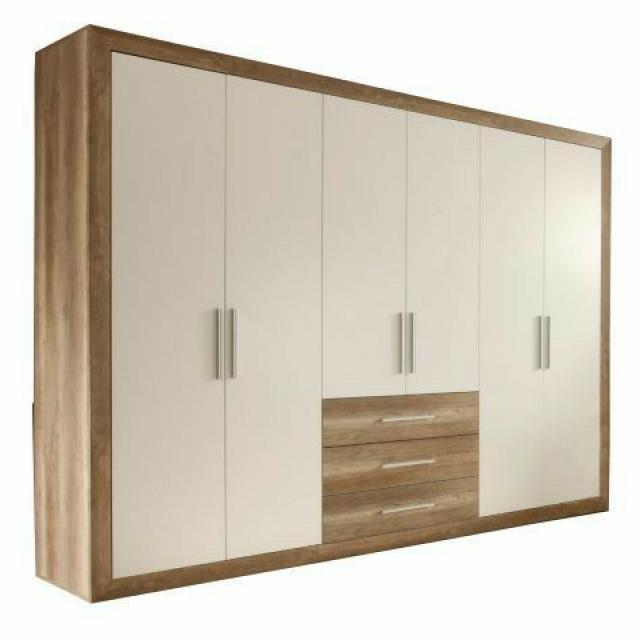door: (108, 49, 323, 580), (478, 118, 610, 520), (326, 96, 481, 396)
obstacle: (323, 398, 477, 546)
